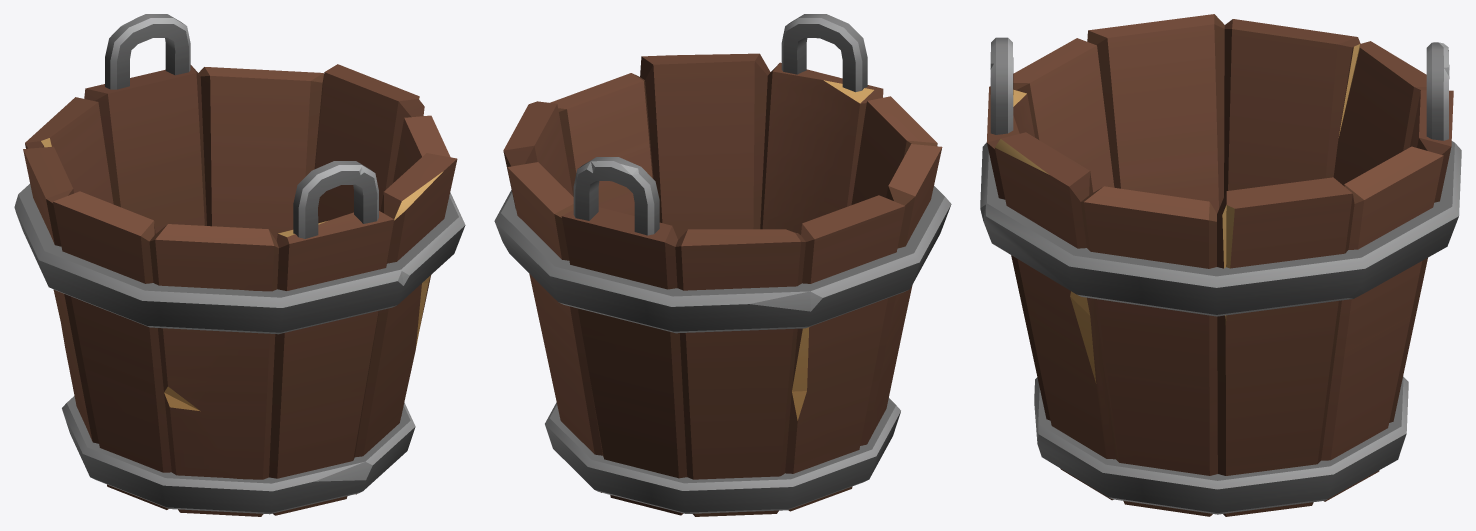
File: Bucket_1_B.glb
3 renders of one model, left to right at view 1: azimuth 30°, elevation 25°; view 2: azimuth 150°, elevation 25°; view 3: azimuth 270°, elevation 25°, orthographic. The views are drawn at different scales.
Parts seen in each view (by area): view 1: Bucket_1_B; view 2: Bucket_1_B; view 3: Bucket_1_B.
Part boxes in pixels (bbox=[...]): Bucket_1_B: bbox=[14, 14, 465, 516]; Bucket_1_B: bbox=[494, 14, 951, 516]; Bucket_1_B: bbox=[980, 14, 1461, 516].
Bounding box in the file's own units: 0.4399 × 0.3849 × 0.4205.
Materials: 2 (2 with a texture image).
